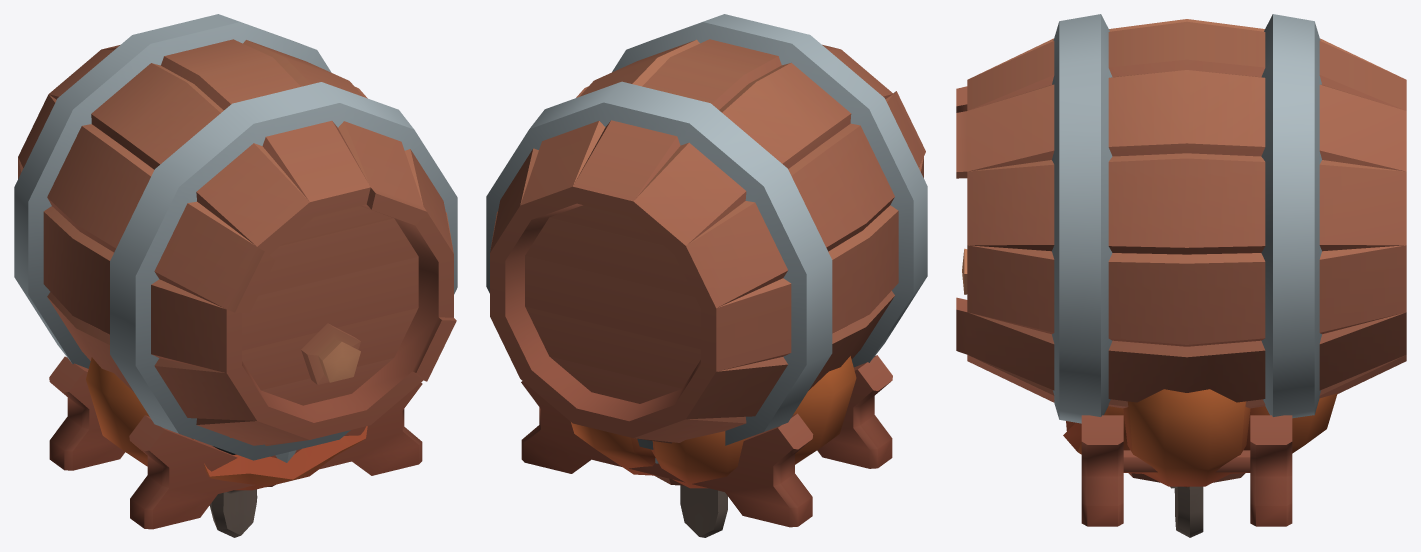
File: props.glb
3 renders of one model, left to right at view 1: azimuth 30°, elevation 25°; view 2: azimuth 150°, elevation 25°; view 3: azimuth 270°, elevation 25°, orthographic. The views are drawn at different scales.
Parts seen in each view (by area): view 1: keg, pumpkin_orange_jackolantern, Skeleton_Quiver; view 2: keg, pumpkin_orange_jackolantern, Skeleton_Quiver; view 3: keg, pumpkin_orange_jackolantern, Skeleton_Quiver.
Boxes of the visible parts, x1,y1,x2,y2 form: keg: (14, 14, 457, 529); pumpkin_orange_jackolantern: (86, 357, 367, 490); Skeleton_Quiver: (209, 489, 257, 537); keg: (486, 14, 927, 527); pumpkin_orange_jackolantern: (571, 356, 856, 488); Skeleton_Quiver: (680, 485, 727, 537); keg: (956, 14, 1406, 526); pumpkin_orange_jackolantern: (1054, 389, 1337, 486); Skeleton_Quiver: (1170, 486, 1203, 537).
Size of the model in its own units: 1.8 by 2.46 by 2.
3 materials, 3 textured.
